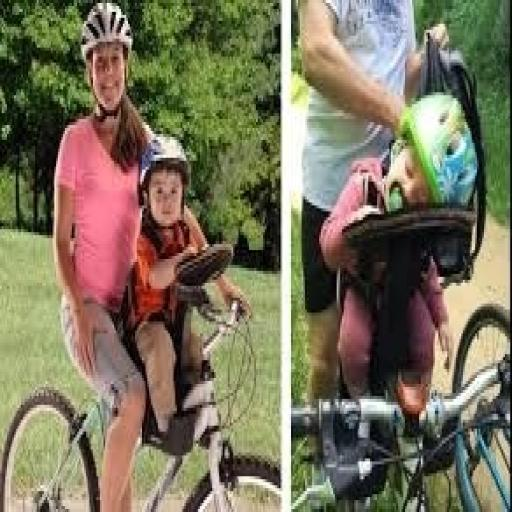cycling: (126, 131, 252, 444)
